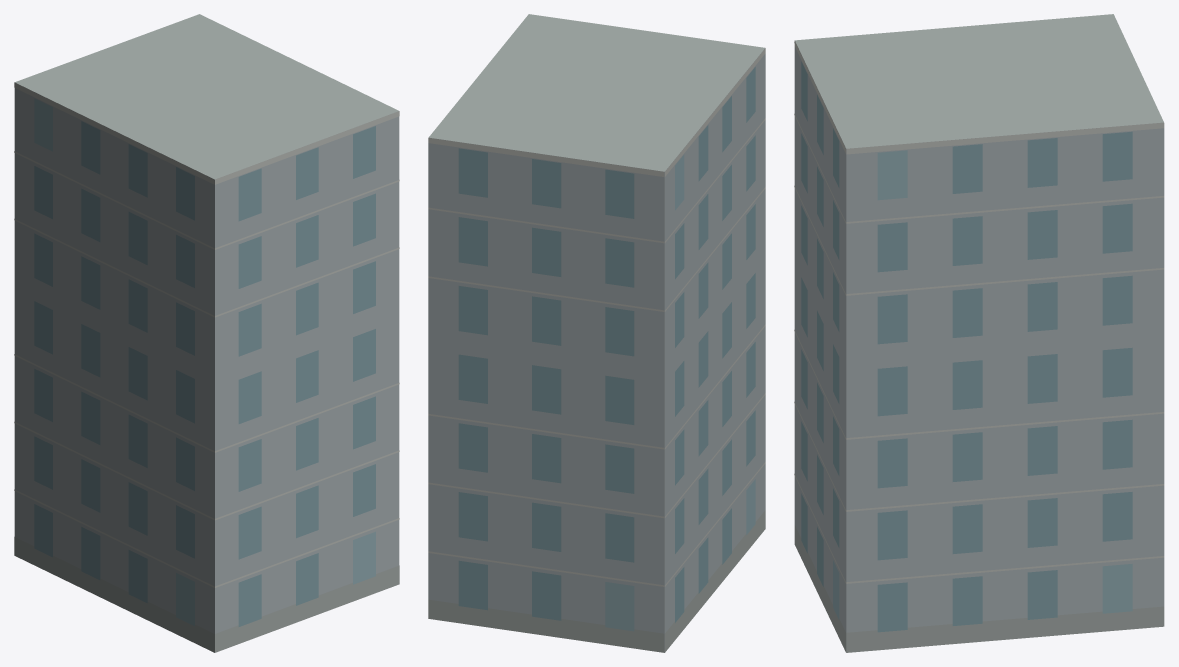
Rendered from survey-upis-32706894.glb.
3 views of the same model, side by side, from view 1: azimuth 30°, elevation 25°; view 2: azimuth 150°, elevation 25°; view 3: azimuth 270°, elevation 25° (orthographic). The views are drawn at different scales.
Visible parts, largest first — view 1: survey-upis-32706894.tmp; view 2: survey-upis-32706894.tmp; view 3: survey-upis-32706894.tmp.
Boxes of the visible parts, bbox=[...] form: survey-upis-32706894.tmp: bbox=[14, 14, 399, 652]; survey-upis-32706894.tmp: bbox=[428, 14, 765, 652]; survey-upis-32706894.tmp: bbox=[794, 14, 1164, 652].
Bounding box in the file's own units: 12.29 × 21.4 × 14.24.
